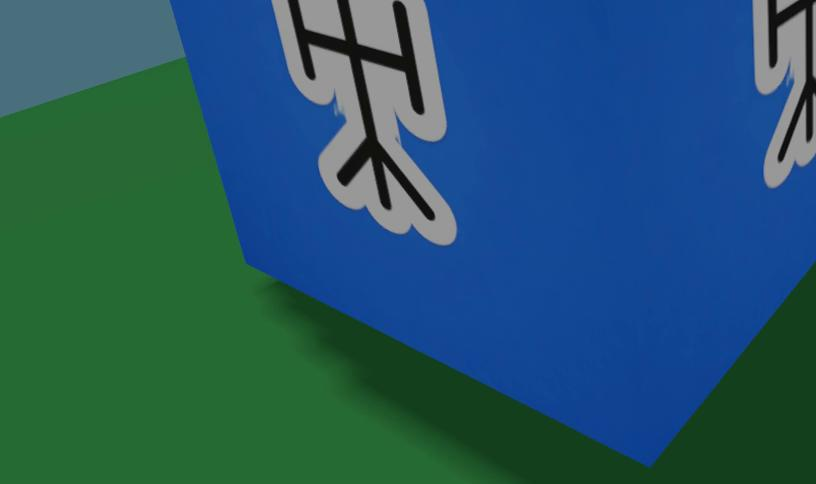KFS_REAL: (169, 0, 816, 462), (271, 0, 456, 244), (754, 0, 816, 187)
